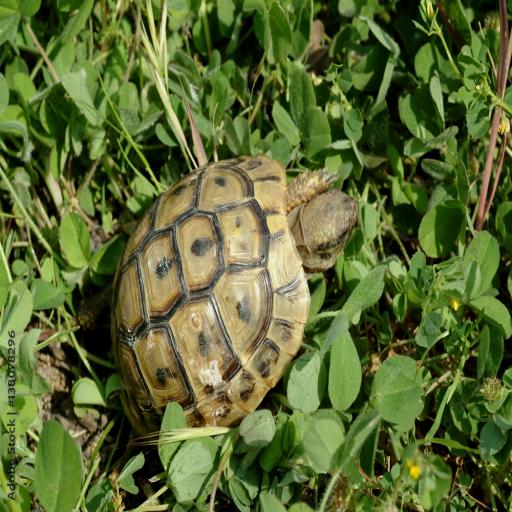turtle: (106, 138, 360, 452)
